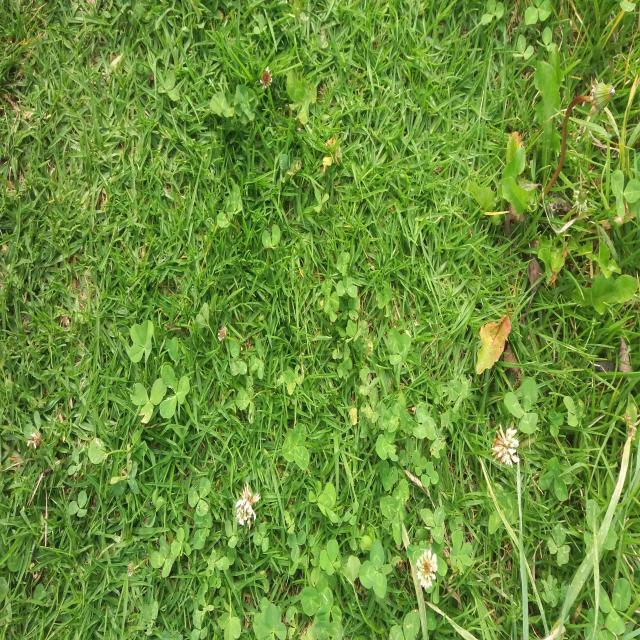Four Leaf Clover: (286, 69, 317, 125)
